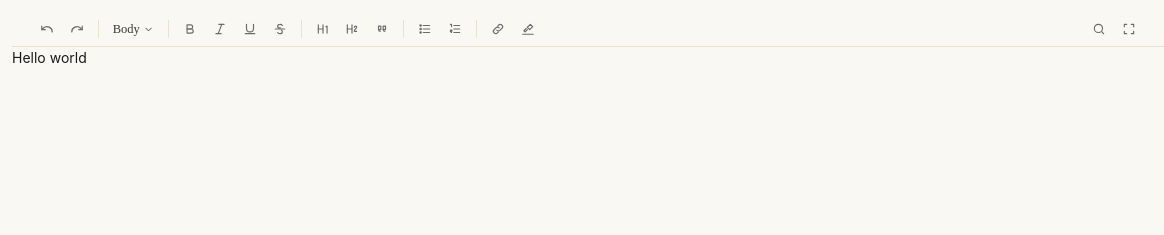
Test: F31 · FormatBar › Style selector dropdown opens, lists options, and selecting Heading 1 promotes the block
Click the button with aria-label "paragraph style" at point(134, 29), box [106,17,161,41]
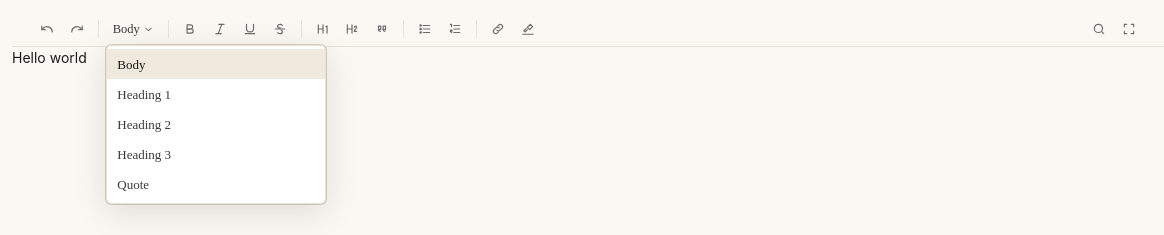
Result: the menu named "paragraph style" is shown at [106,45,326,204]
Result: the menu item "Body" is shown at [107,49,325,79]
Result: the menu item "Heading 1" is shown
Click the menu item "Heading 1" at point(216, 94), box [107,79,325,109]
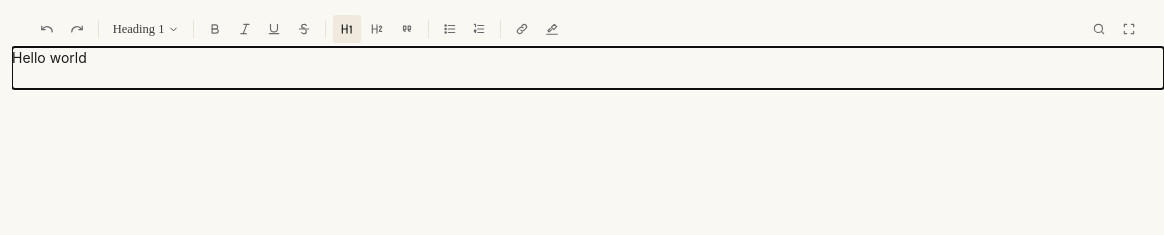
Result: the button with aria-label "paragraph style" reads "Heading 1" at [106,17,186,41]
